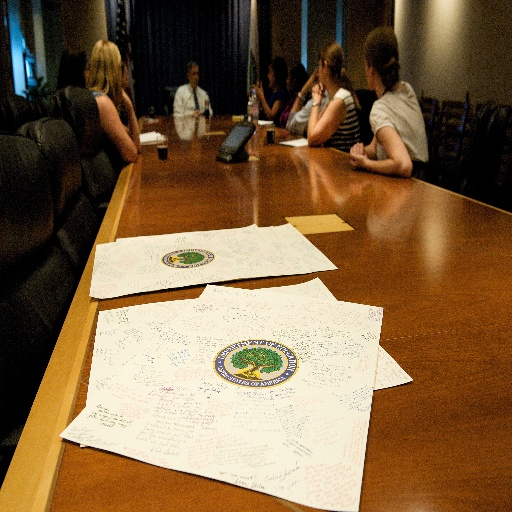hand: (311, 84, 324, 103), (121, 87, 132, 108), (350, 141, 366, 155), (309, 66, 319, 88), (350, 154, 365, 168), (250, 82, 262, 98), (311, 82, 324, 93), (192, 107, 199, 118)
